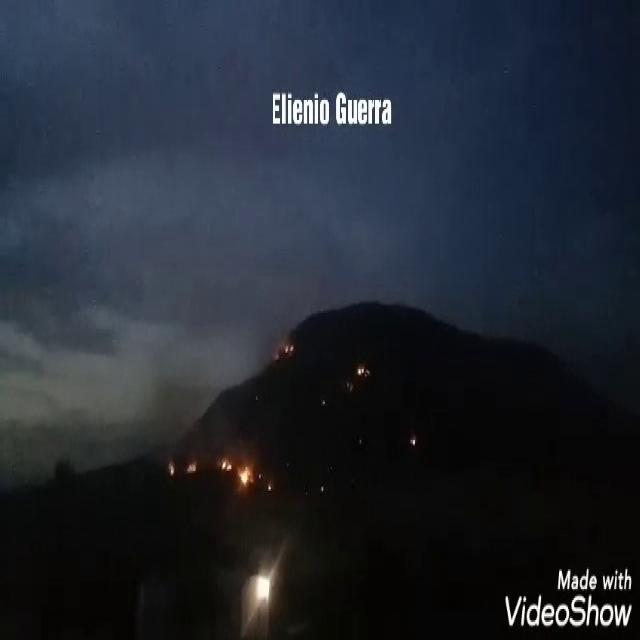Fire: (355, 360, 373, 378), (218, 454, 231, 474), (281, 336, 295, 354), (238, 468, 251, 486), (185, 458, 197, 473), (169, 458, 177, 473)
Smoke: (144, 374, 251, 476), (138, 354, 219, 450)
